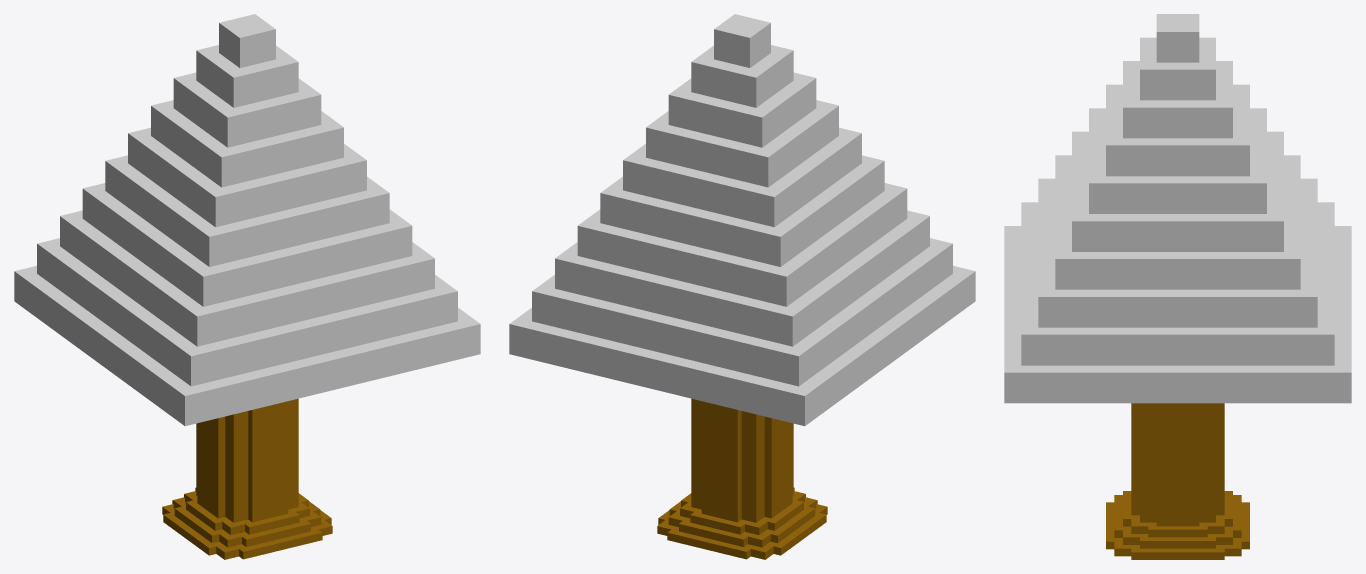
The model's file is tree04-0.fbx.
The picture shows the model from 3 angles, left to right: view 1: azimuth 30°, elevation 25°; view 2: azimuth 150°, elevation 25°; view 3: azimuth 270°, elevation 25°; orthographic projection.
Parts seen in each view (by area): view 1: Tree04-0, Tree02-Stem, Tree02-Root; view 2: Tree04-0, Tree02-Stem, Tree02-Root; view 3: Tree04-0, Tree02-Stem, Tree02-Root.
Boxes of the visible parts, x1,y1,x2,y2 form: Tree04-0: (14,14,480,426); Tree02-Stem: (196,398,298,522); Tree02-Root: (162,487,332,559); Tree04-0: (509,14,975,426); Tree02-Stem: (691,398,793,522); Tree02-Root: (657,487,827,559); Tree04-0: (1004,14,1351,403); Tree02-Stem: (1131,403,1224,526); Tree02-Root: (1106,491,1249,559).
Bounding box in the file's own units: 410 × 660 × 410.
